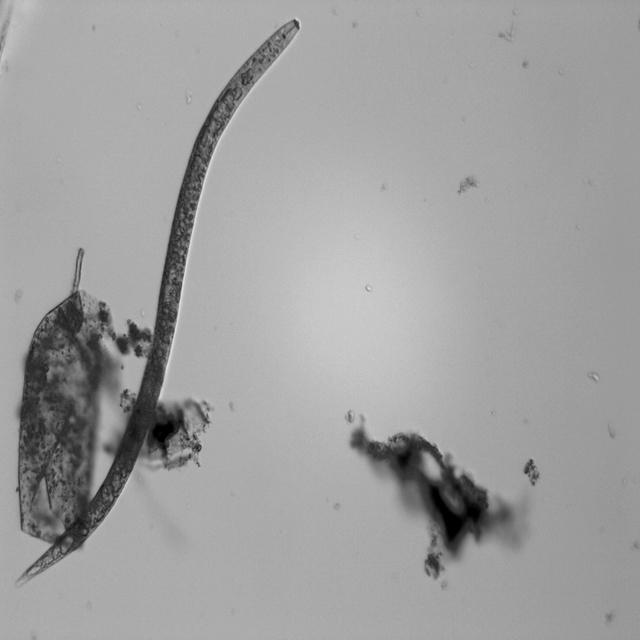Radopholus: (12, 12, 302, 592)
